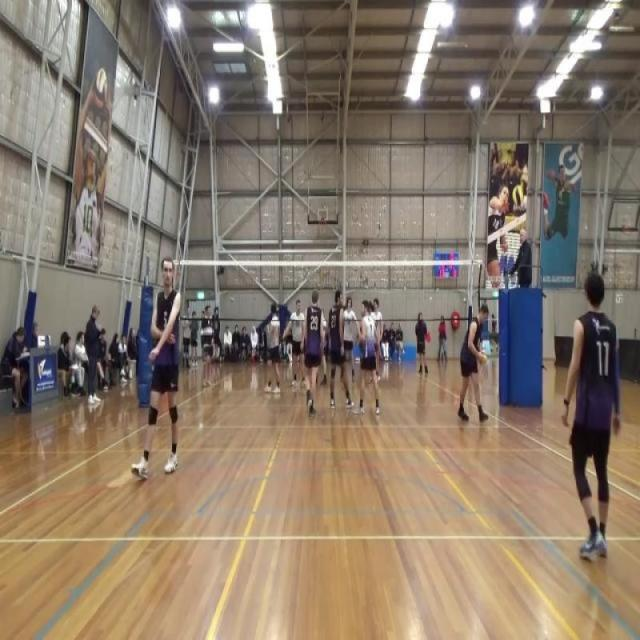volleyball: (95, 67, 109, 108), (512, 184, 524, 206), (478, 350, 488, 366)
